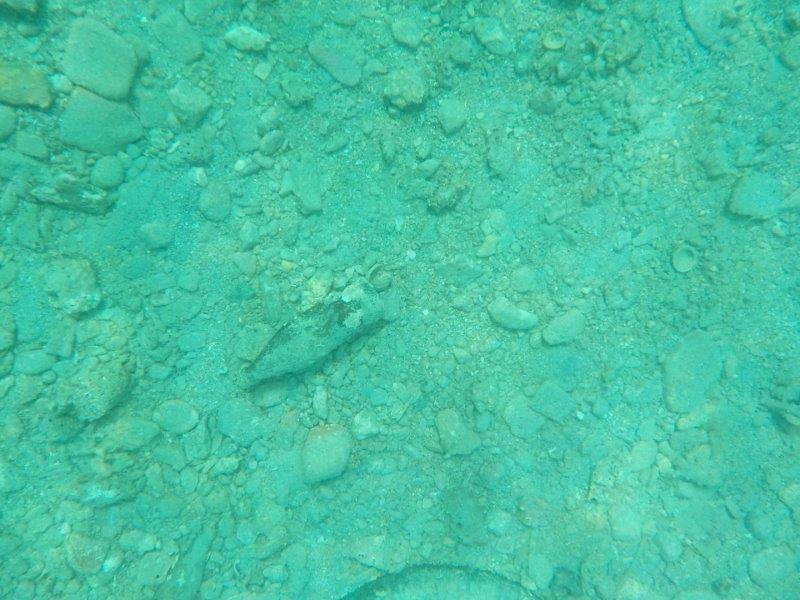bottle: (226, 271, 392, 403)
